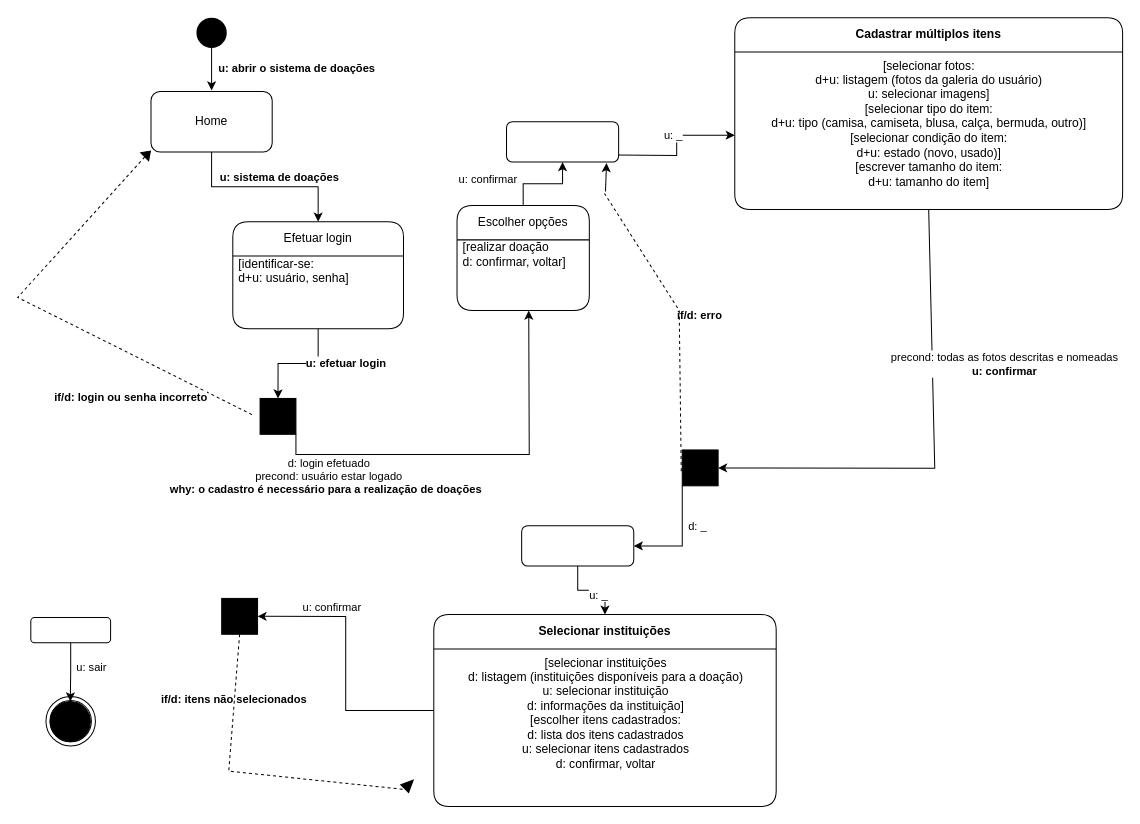
Image size: 1140x824. Some labels were removed from this diagram. Here are the shapes that lost their labels. From the top down, the centre of each, then its label:
(562,141): realizar doação
(577,545): escolher instituições
